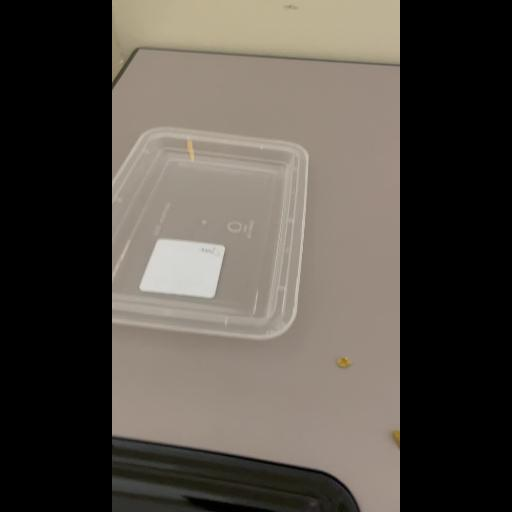rigid_plastic_lid: (112, 128, 306, 336)
